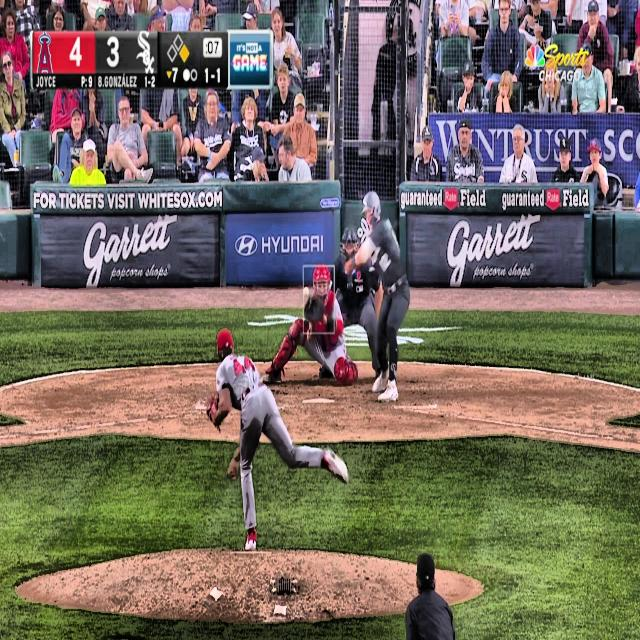baseball: (302, 286, 310, 298)
